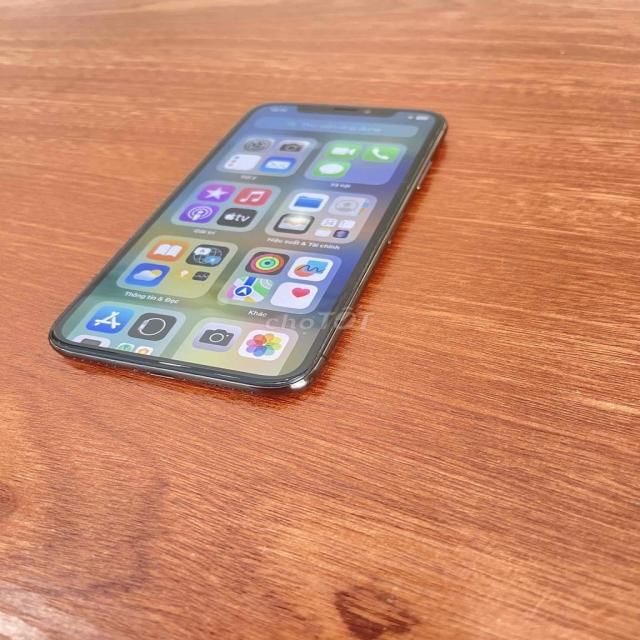scratch: (51, 337, 77, 351)
